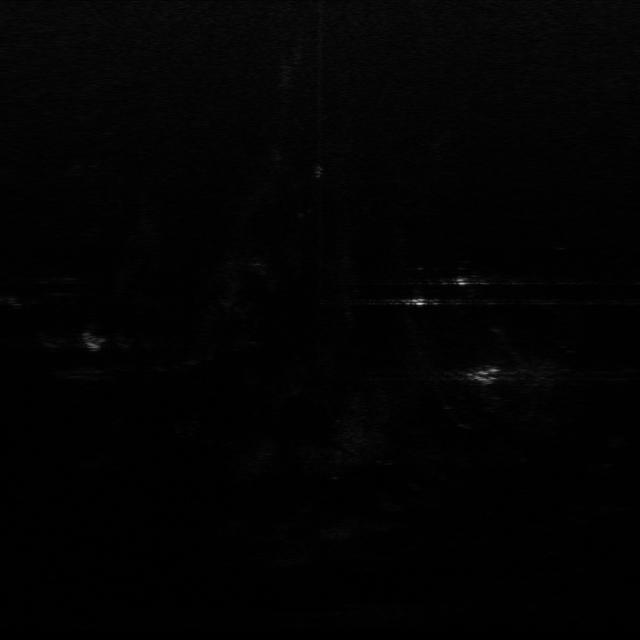rov: (468, 362, 508, 390)
